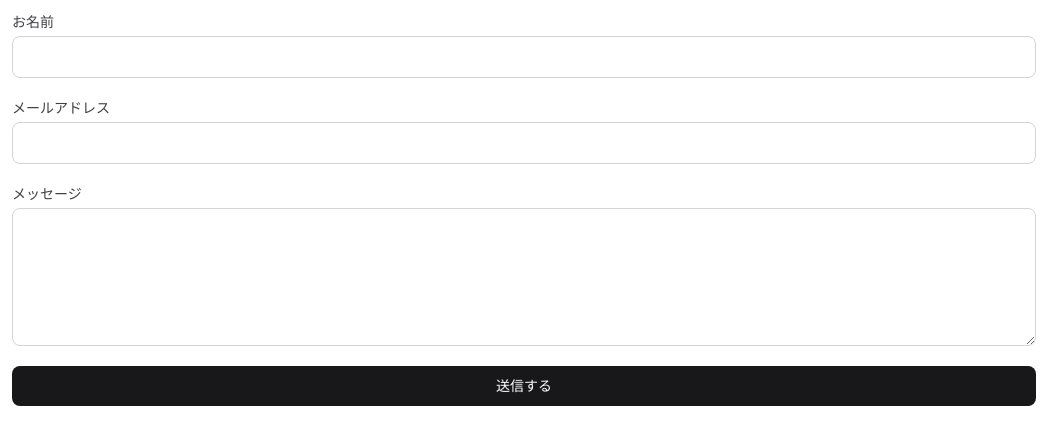
Scenario: ContactForm › メールアドレスが空のときエラーを表示する
Type "テスト太郎" into the field labelled "お名前" at (524, 57), box [12, 36, 1036, 78]
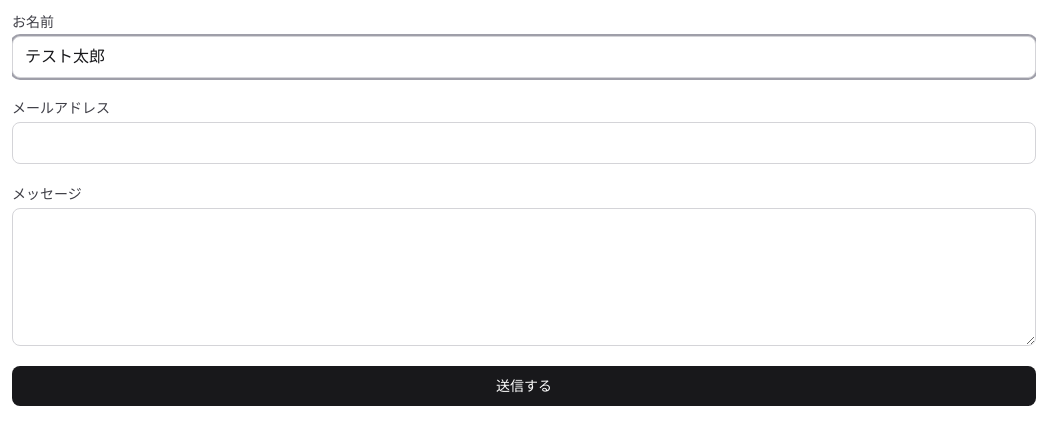
Type "これはテストメッセージです。" into the text box labelled "メッセージ" at (524, 277), box [12, 208, 1036, 346]
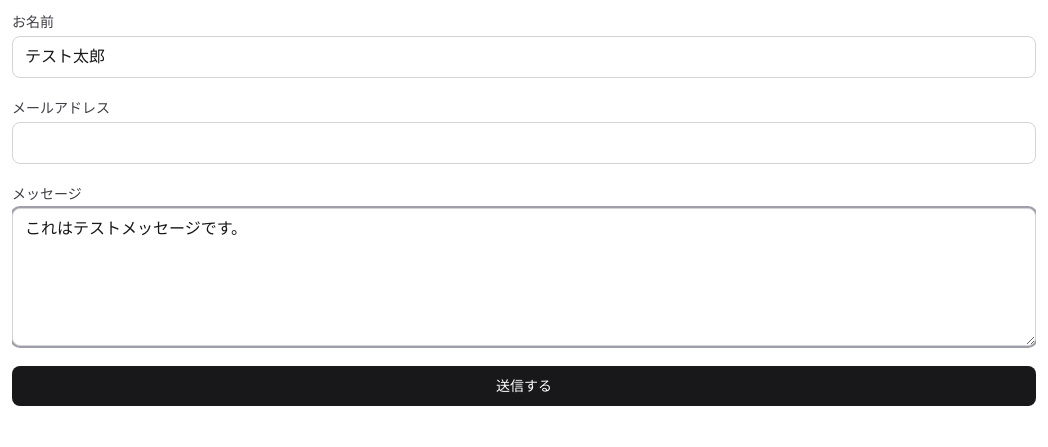
Click the button "送信する" at (524, 386), box [12, 366, 1036, 406]
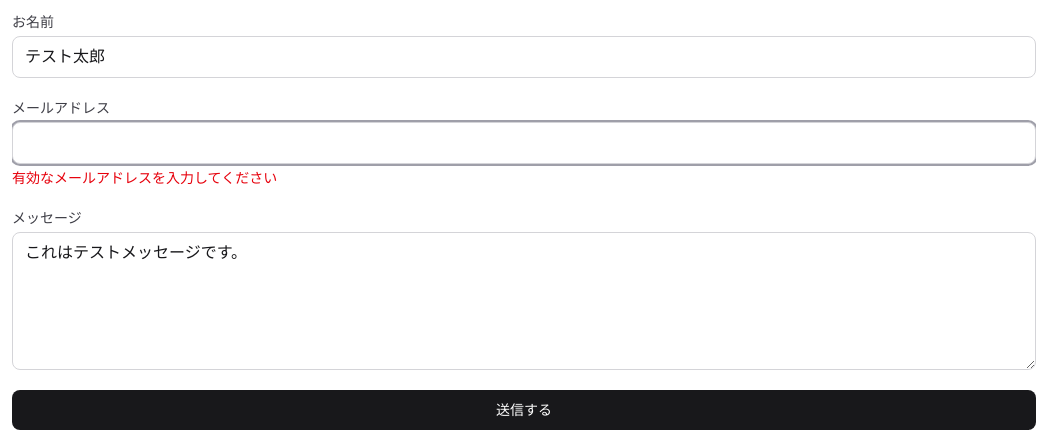
Check: the text "有効なメールアドレスを入力してください" is shown, box [12, 170, 277, 186]
